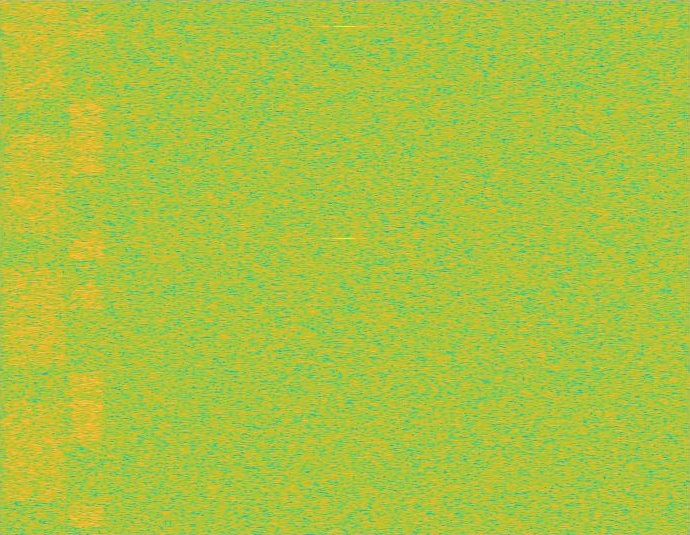5G: (0, 0, 69, 534)
LTE: (69, 0, 104, 534)
Radar: (338, 0, 352, 534)
